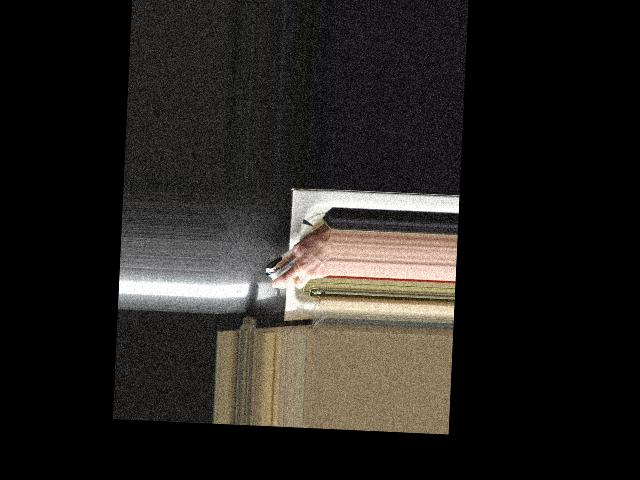cheese: (262, 238, 327, 287)
